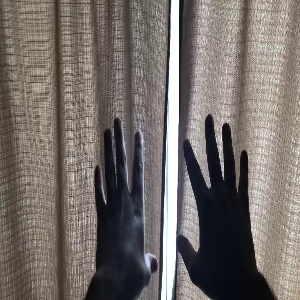hand: (179, 115, 259, 286), (94, 117, 159, 277)
